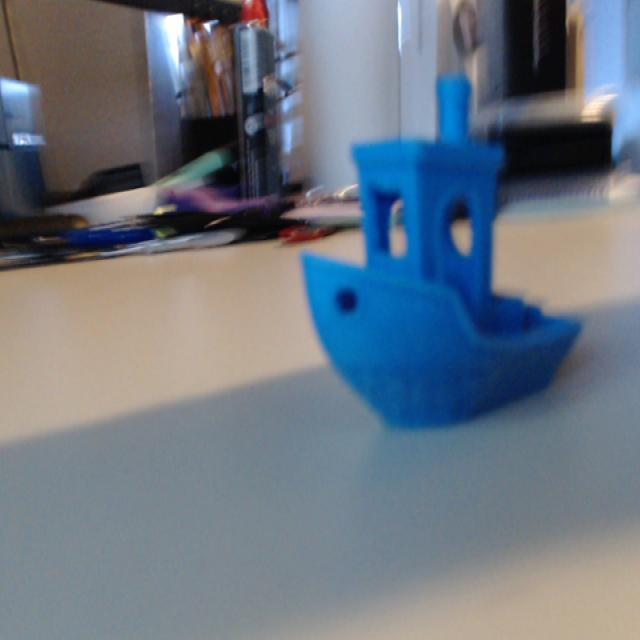benchy: (297, 68, 584, 432)
